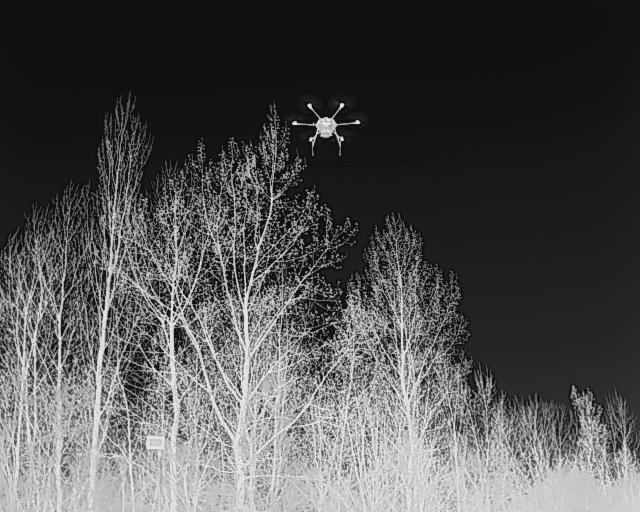drone: (280, 84, 374, 161)
